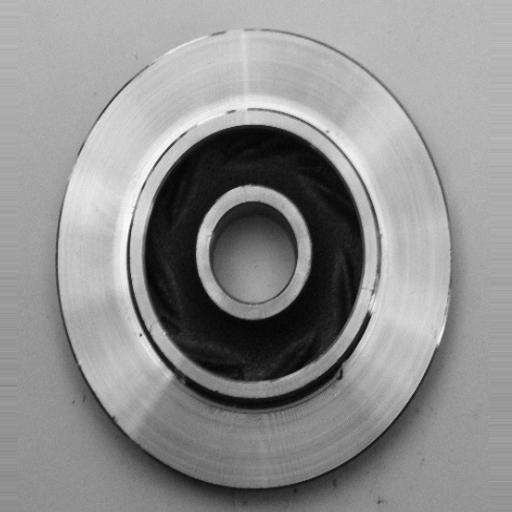crack: (323, 351, 353, 389)
scratch: (144, 101, 260, 143), (359, 227, 393, 323)
unpolished_casting: (54, 25, 456, 490)
